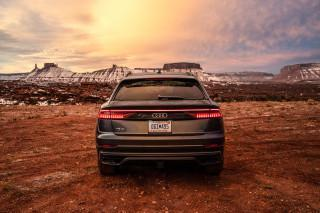Audi: (149, 110, 173, 121)
